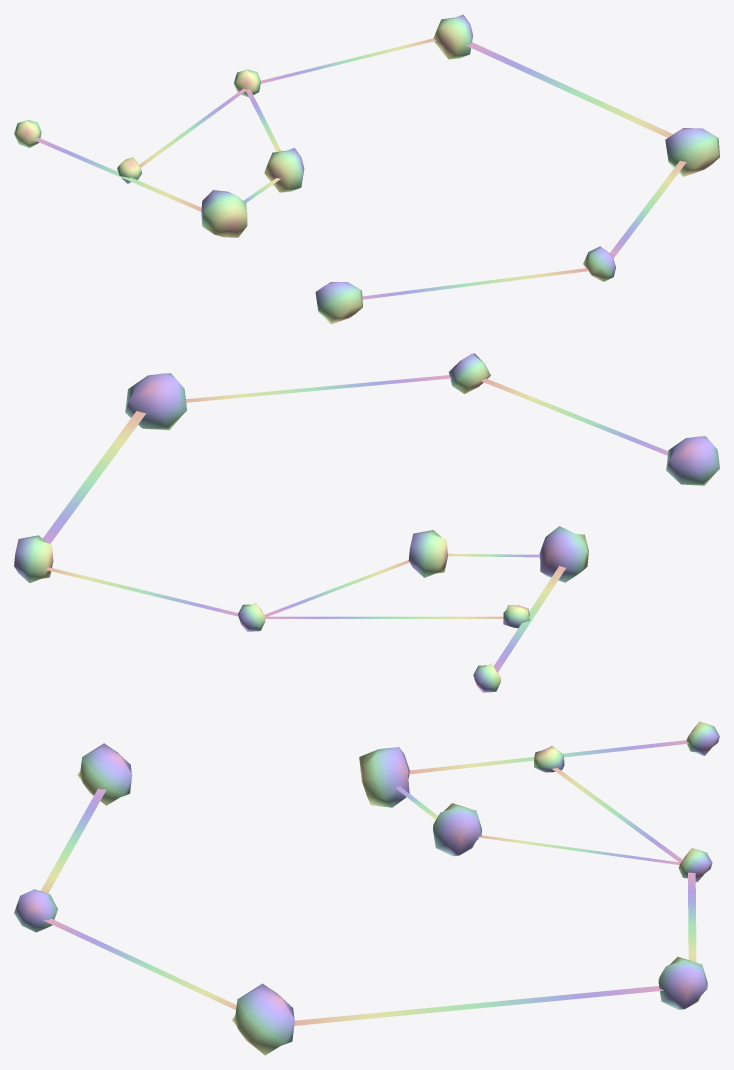
The model's file is ChomCandy.fbx.
The picture shows the model from 3 angles, top to bottom: view 1: azimuth 30°, elevation 25°; view 2: azimuth 150°, elevation 25°; view 3: azimuth 270°, elevation 25°; orthographic projection. The views are drawn at different scales.
Parts seen in each view (by area): view 1: ChomCandy; view 2: ChomCandy; view 3: ChomCandy.
Part boxes in pixels (x1=…): ChomCandy: x1=14, y1=14, x2=719, y2=324; ChomCandy: x1=14, y1=353, x2=719, y2=692; ChomCandy: x1=14, y1=721, x2=719, y2=1055.
Bounding box in the file's own units: 3.2 × 3.14 × 0.2821.
